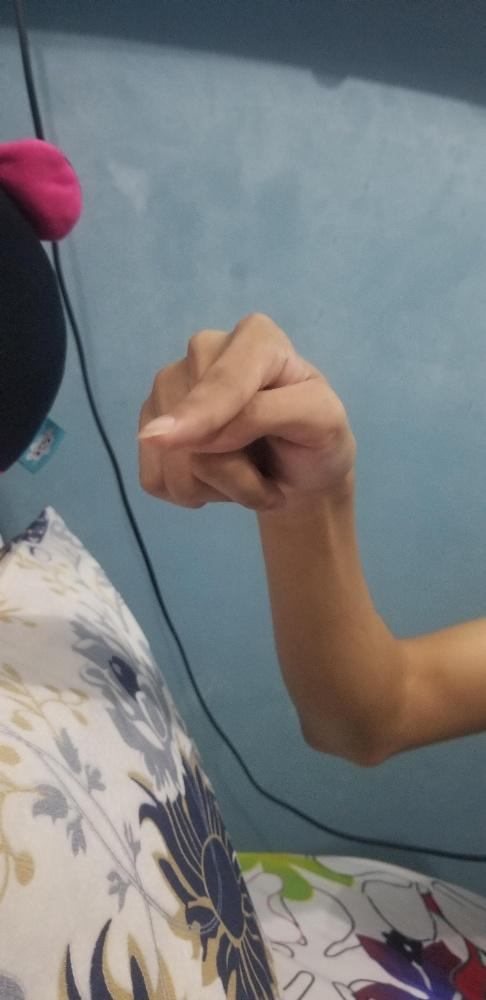z: (133, 310, 359, 518)
